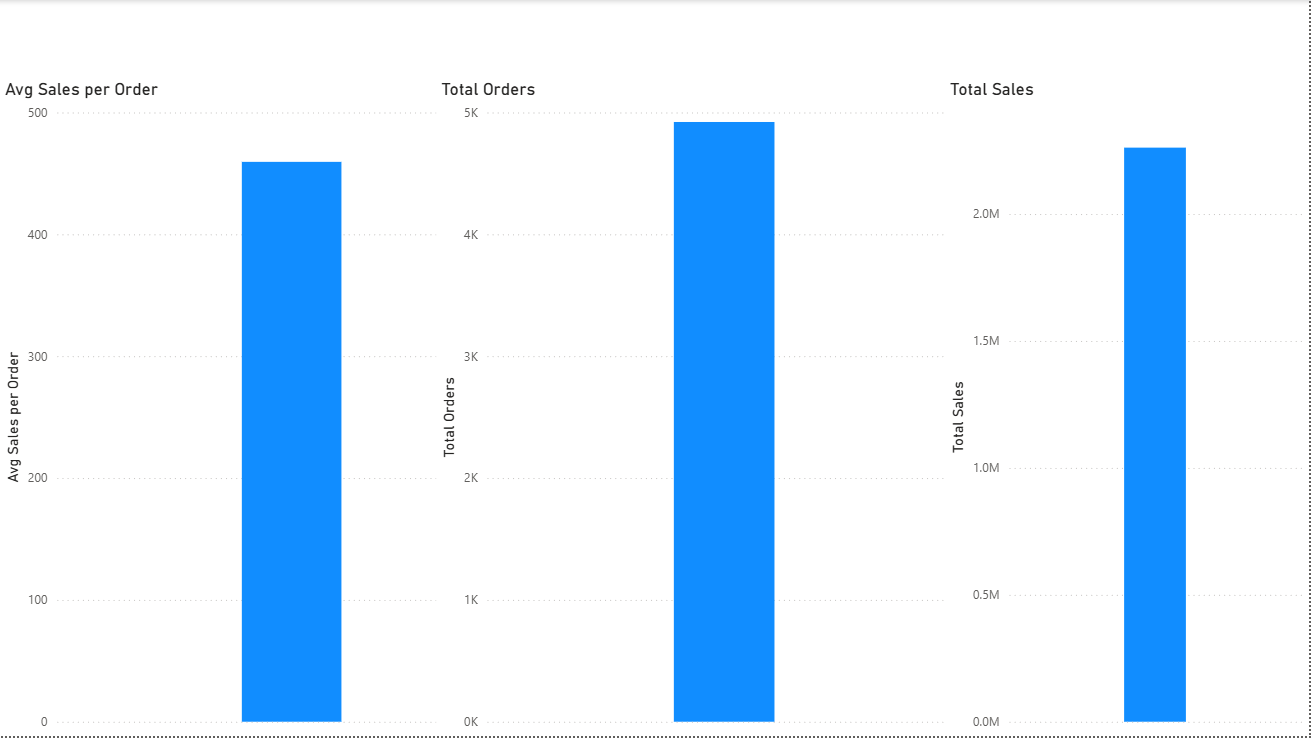

The dashboard page shown, as its layout file describes it:
{"tool":"powerbi","page":{"name":"Page 4","canvas":[1280,720],"ordinal":3},"visuals":[{"type":"clusteredColumnChart","fields":{"Y":["superstore_sales.Total Orders"]},"box":[0,0,470.8,720.2],"z":0},{"type":"clusteredColumnChart","fields":{"Y":["superstore_sales.Total Sales"]},"box":[809.5,0,470.8,720.2],"z":1},{"type":"clusteredColumnChart","fields":{"Y":["superstore_sales.Avg Sales per Order"]},"box":[413.3,0,470.8,720.2],"z":2}]}

Visuals, with their boxes in screenshot pixels (x1, y1, x2, y2), scaled from the page's 1280x720 canvas onto the 1311x738 screenshot:
clusteredColumnChart - superstore_sales.Total Orders: x1=0 y1=0 x2=482 y2=737
clusteredColumnChart - superstore_sales.Total Sales: x1=829 y1=0 x2=1310 y2=737
clusteredColumnChart - superstore_sales.Avg Sales per Order: x1=423 y1=0 x2=906 y2=737
